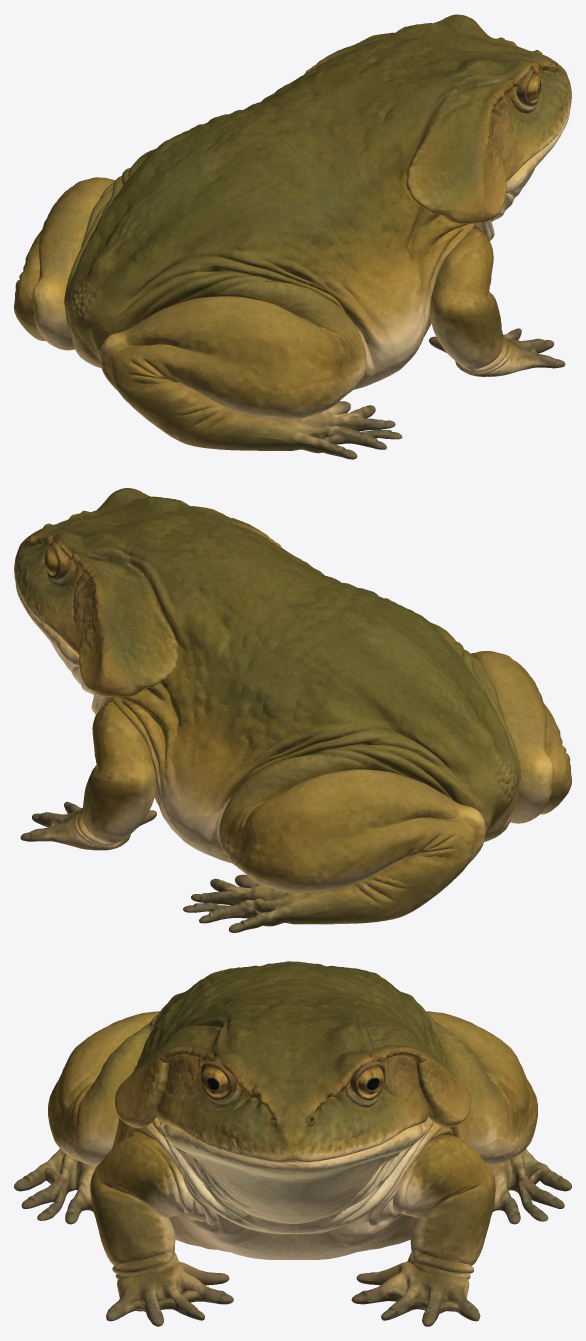
3 renders of one model, top to bottom at view 1: azimuth 30°, elevation 25°; view 2: azimuth 150°, elevation 25°; view 3: azimuth 270°, elevation 25°, orthographic. The views are drawn at different scales.
Parts seen in each view (by area): view 1: output_unwrapped; view 2: output_unwrapped; view 3: output_unwrapped.
Part boxes in pixels (x1,y1,x2,y2): output_unwrapped: (14,14,571,459); output_unwrapped: (14,488,571,932); output_unwrapped: (14,961,571,1326).
Bounding box in the file's own units: 0.2391 × 0.1214 × 0.2197.
1 material, 1 textured.
